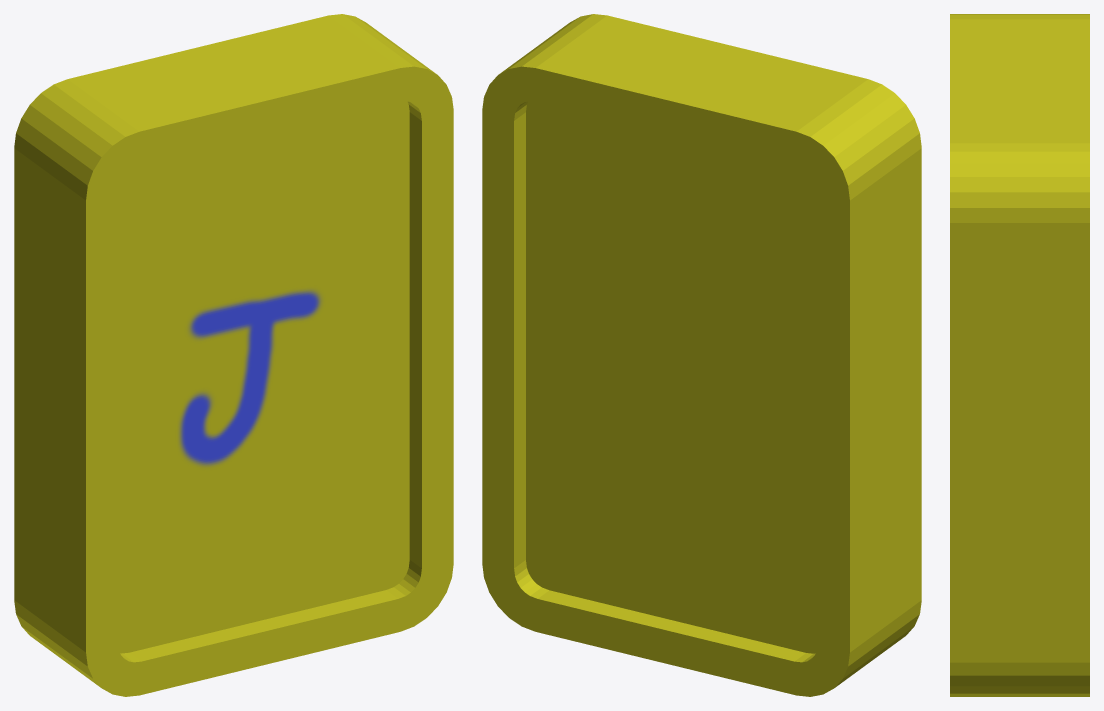
File: domino.glb
3 renders of one model, left to right at view 1: azimuth 30°, elevation 25°; view 2: azimuth 150°, elevation 25°; view 3: azimuth 270°, elevation 25°, orthographic. The views are drawn at different scales.
Visible parts, largest first — view 1: Cube; view 2: Cube; view 3: Cube.
Part boxes in pixels (x1=…): Cube: x1=14, y1=14, x2=453, y2=696; Cube: x1=482, y1=14, x2=921, y2=696; Cube: x1=950, y1=14, x2=1089, y2=696.
Size of the model in its own units: 0.5763 by 0.8441 by 0.195.
Materials: 1 (1 with a texture image).
